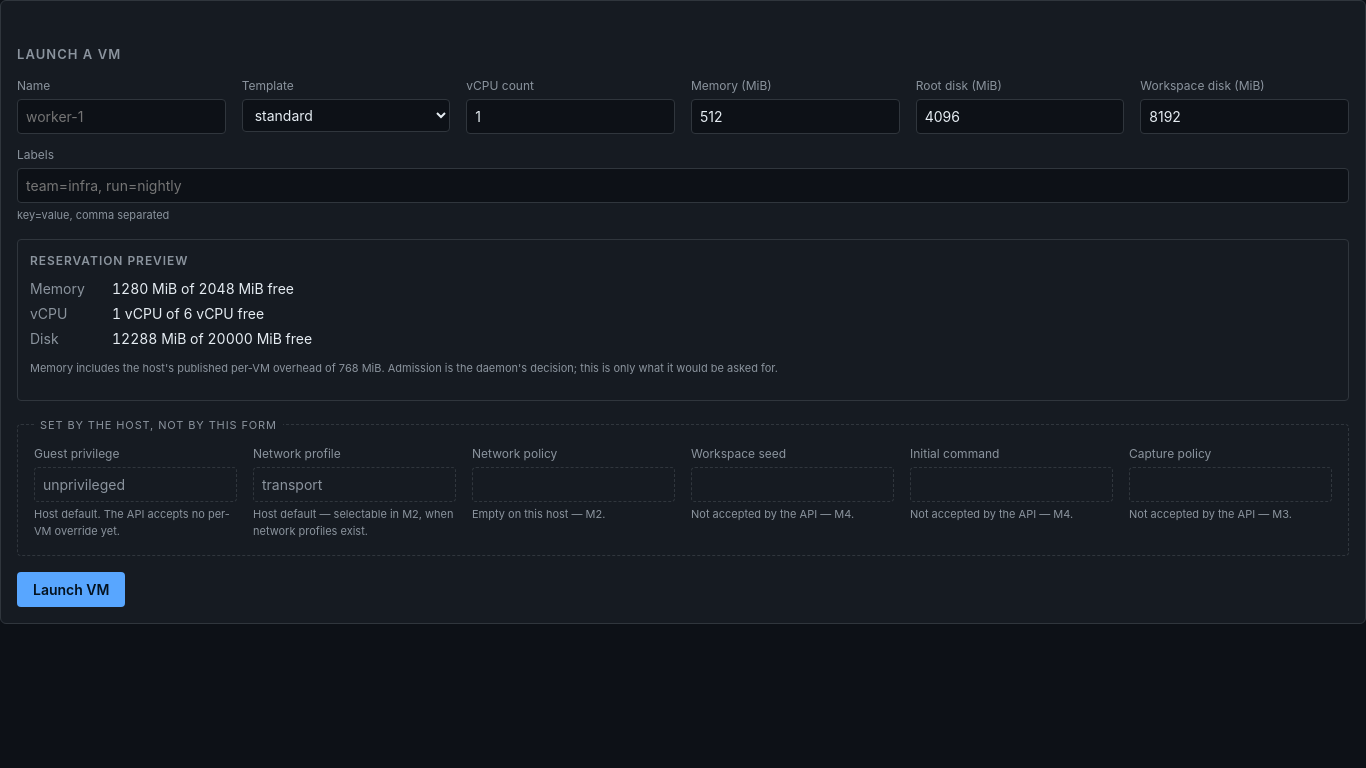
Scenario: LaunchForm honesty and access › refuses a second submit while one is in flight
Step 1. Click the button "Launch VM" → (71, 590), box [17,572,126,607]
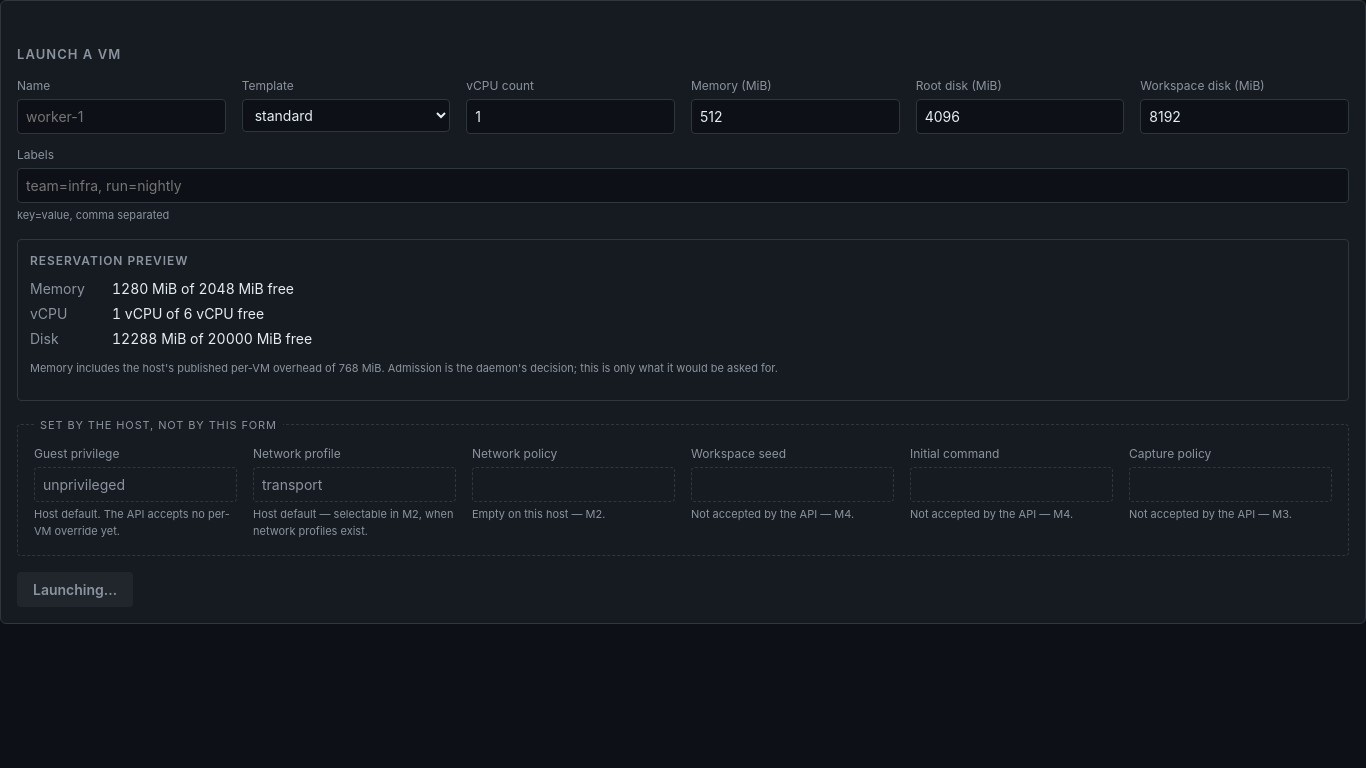
Expected: the button "Launching…" is disabled, [17,572,133,607]
